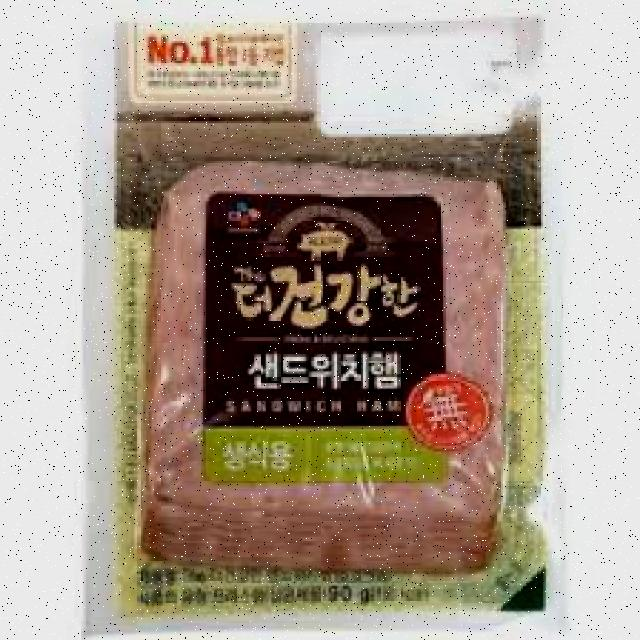Ham: (72, 0, 570, 626)
